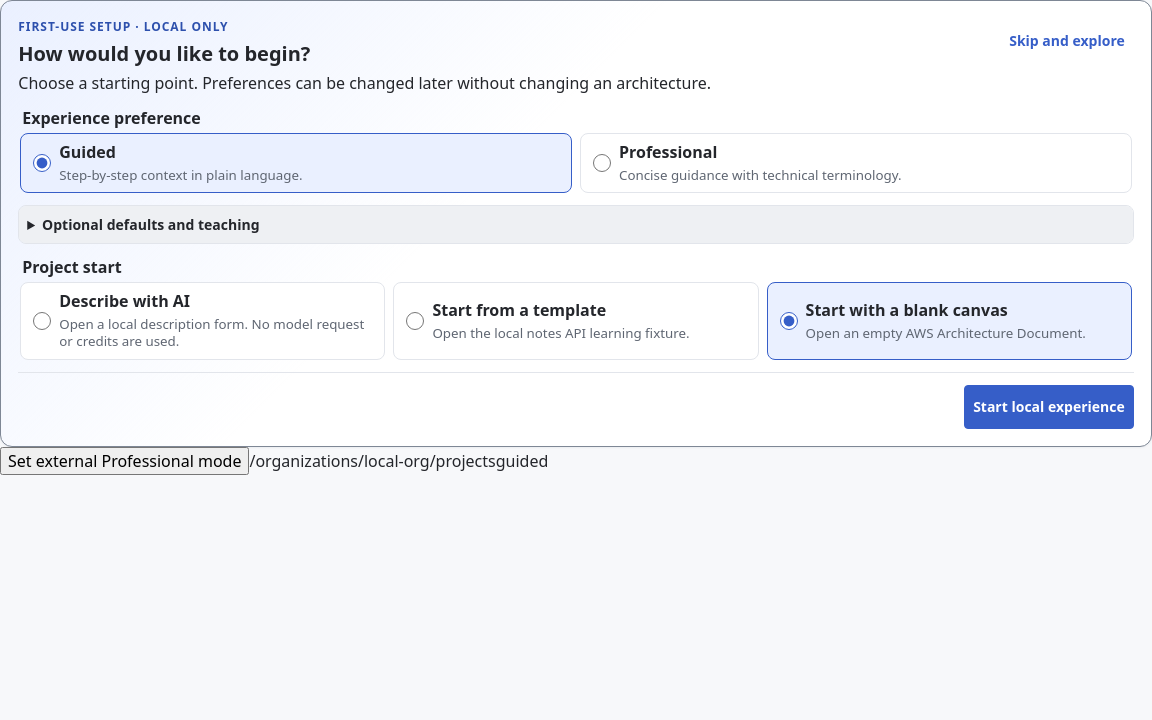
Scenario: FirstUseExperience › reopens optional defaults and focuses an invalid Region without navigation
The width and height of the screenshot is (1152, 720).
Click the heading "Optional defaults and teaching": (151, 225) left=19, top=206, right=1133, bottom=243
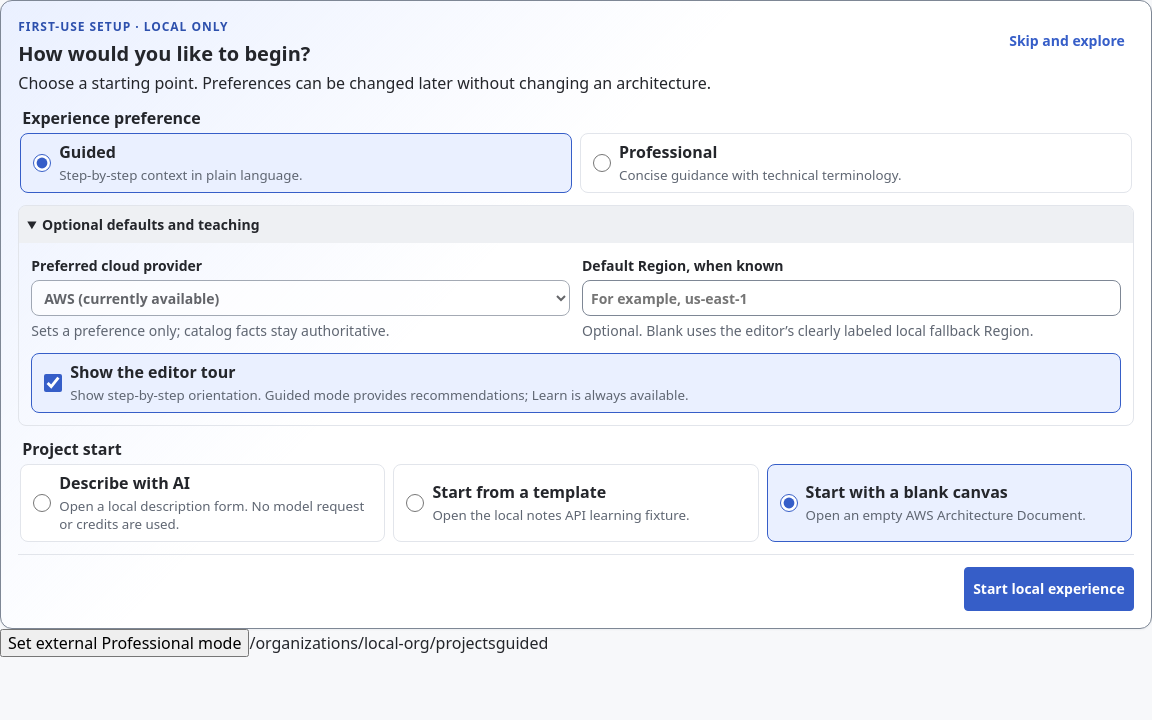
In the field labelled "Default Region": (851, 298) left=582, top=280, right=1121, bottom=316, type "US-EAST-1"
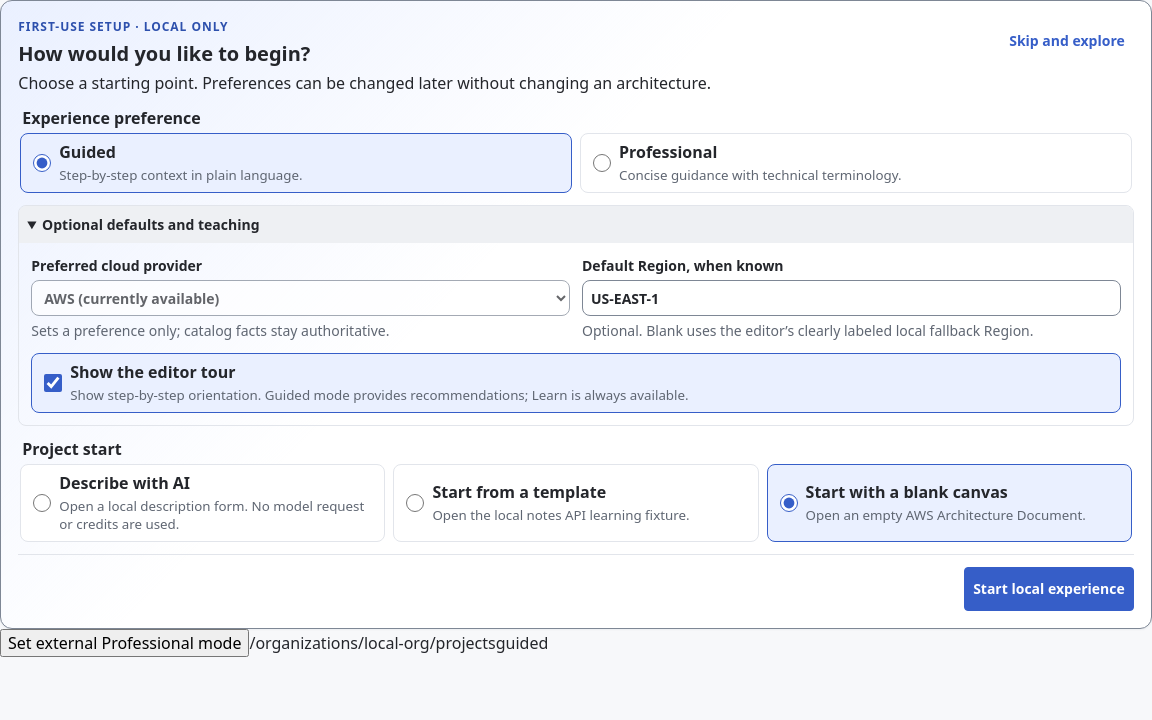
Click the heading "Optional defaults and teaching": (151, 225) left=19, top=206, right=1133, bottom=243
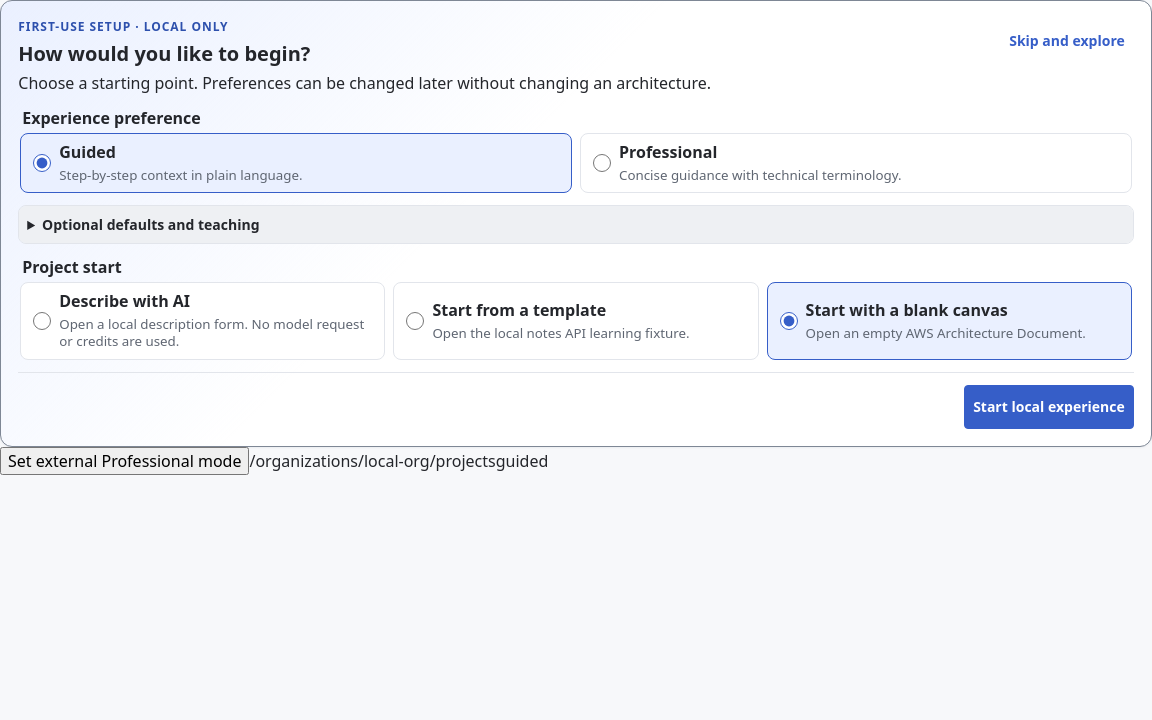
Now the text "Optional defaults and teaching" does not have attribute open, box left=18, top=205, right=1134, bottom=244
Click the button "Start local experience": (1049, 407) left=964, top=385, right=1134, bottom=429
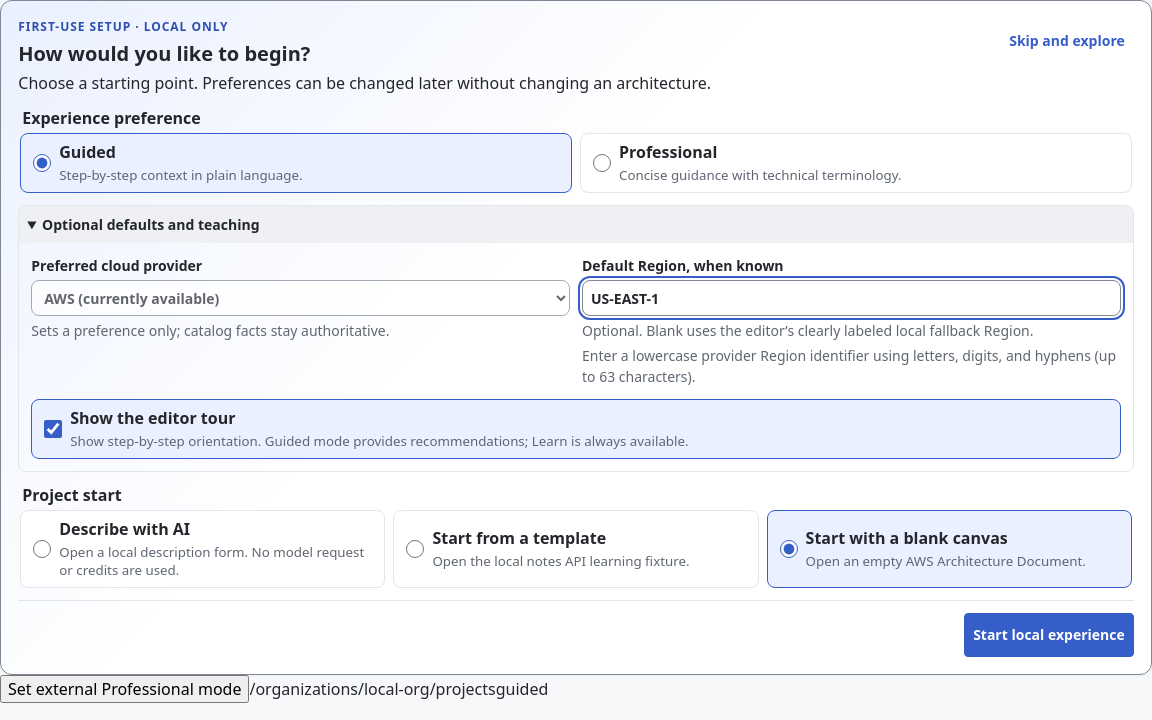
Expected: the text with test id "location" reads "/organizations/local-org/projects", left=250, top=678, right=496, bottom=700
Now the message shows "Enter a lowercase provider Region identifier", box left=582, top=346, right=1116, bottom=386
